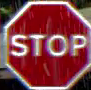Stop: (4, 0, 90, 89)
